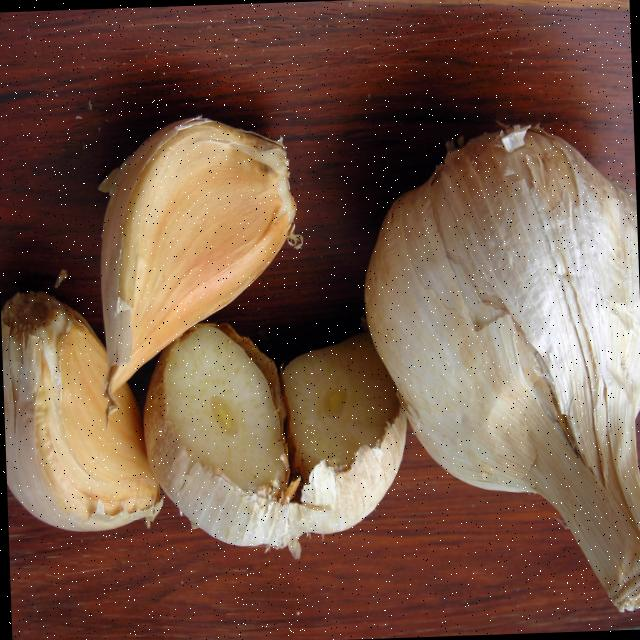garlic: (364, 125, 640, 610), (99, 117, 295, 419), (0, 291, 162, 530)
